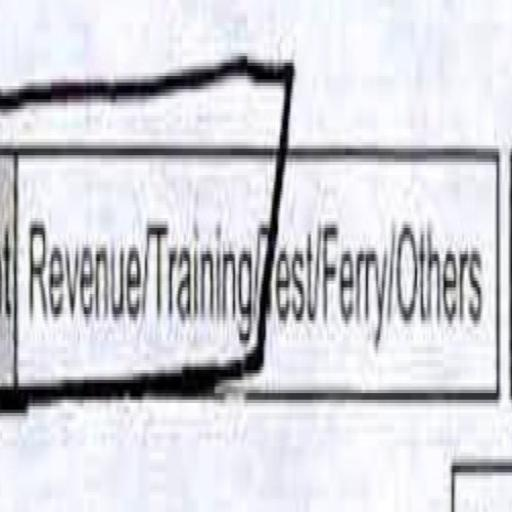check: (150, 13, 270, 470), (21, 40, 142, 450)
